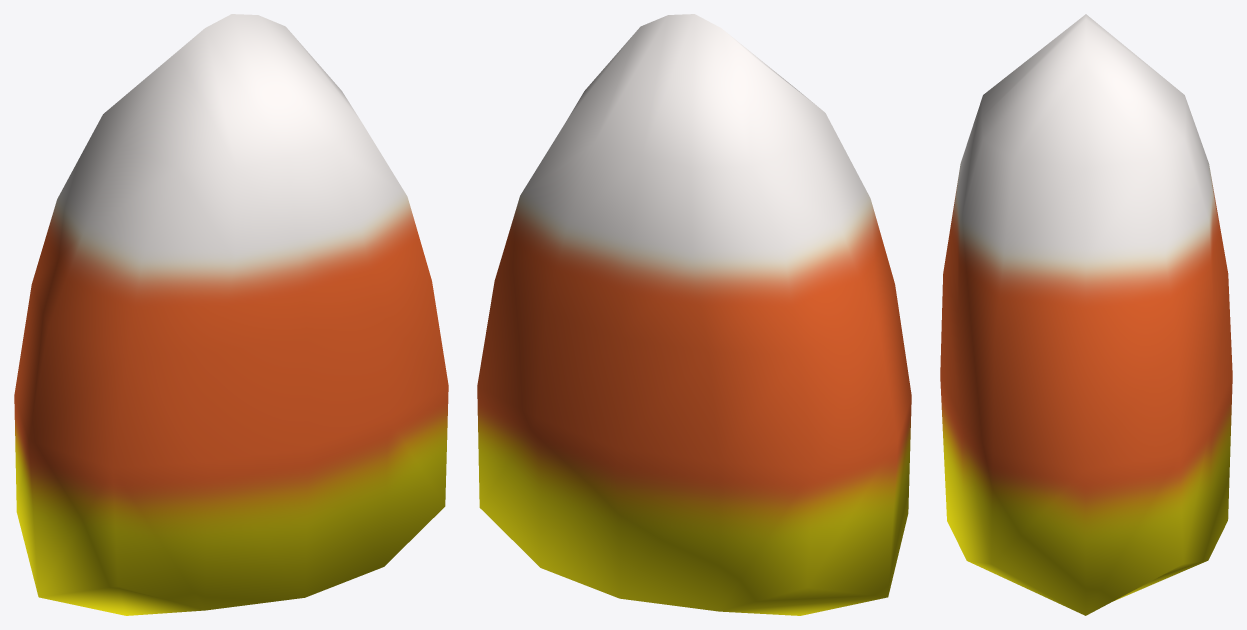
File: candy_corn.fbx
3 views of the same model, side by side, from view 1: azimuth 30°, elevation 25°; view 2: azimuth 150°, elevation 25°; view 3: azimuth 270°, elevation 25° (orthographic). The views are drawn at different scales.
Visible parts, largest first — view 1: candycorn.001; view 2: candycorn.001; view 3: candycorn.001.
Part boxes in pixels (x1,y1,x2,y2): candycorn.001: (14,14,448,615); candycorn.001: (477,14,911,615); candycorn.001: (940,14,1232,615).
Bounding box in the file's own units: 91.73 × 125 × 60.48.
Materials: 1 (1 with a texture image).
